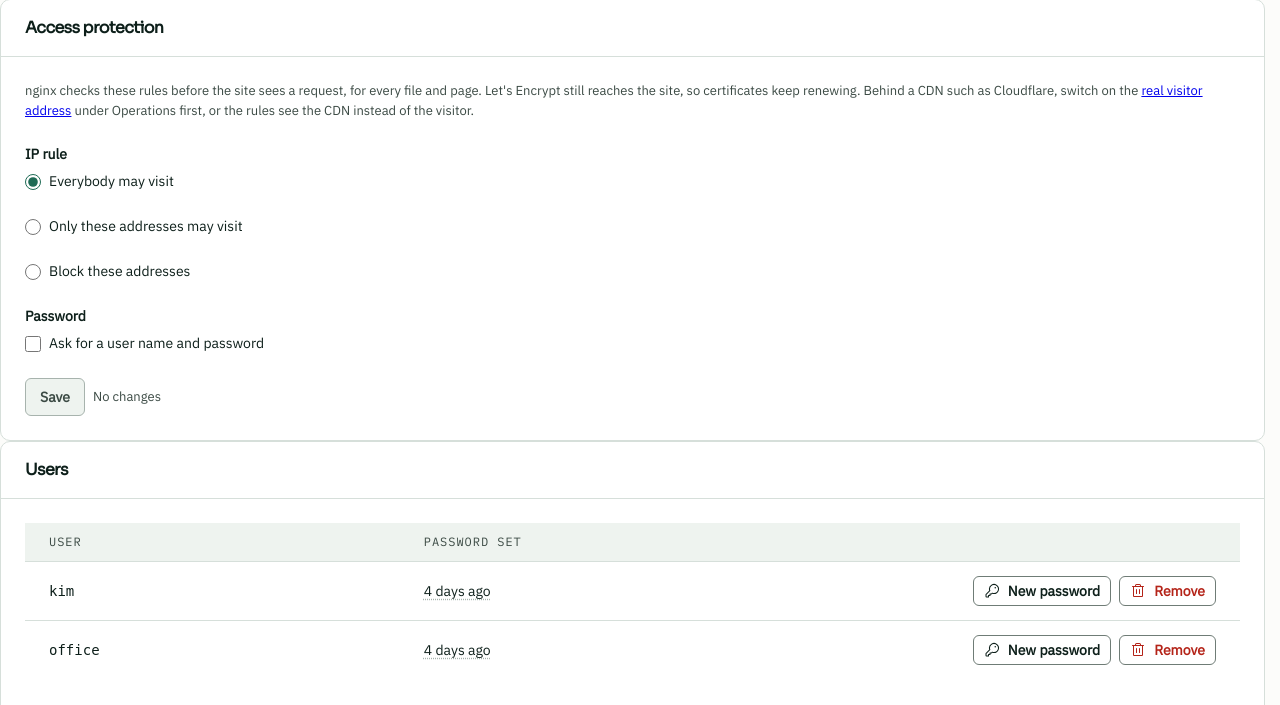
SiteAccess › asks before removing a user and keeps the last one while the password is on
Step 1. Click the button with aria-label "Remove office" → x=1168, y=650, box [1119,635,1216,665]
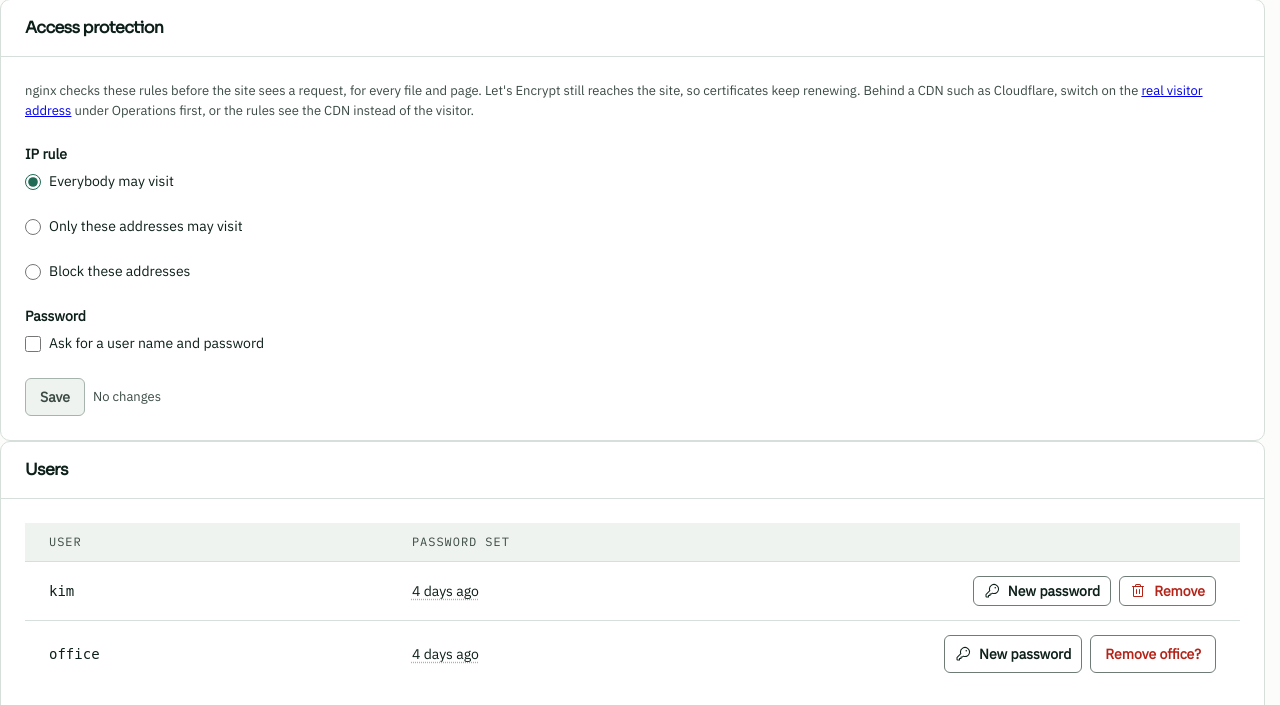
Step 2. Click the button "Remove office?" → x=1153, y=654, box [1090,635,1216,673]
(page scrolled)
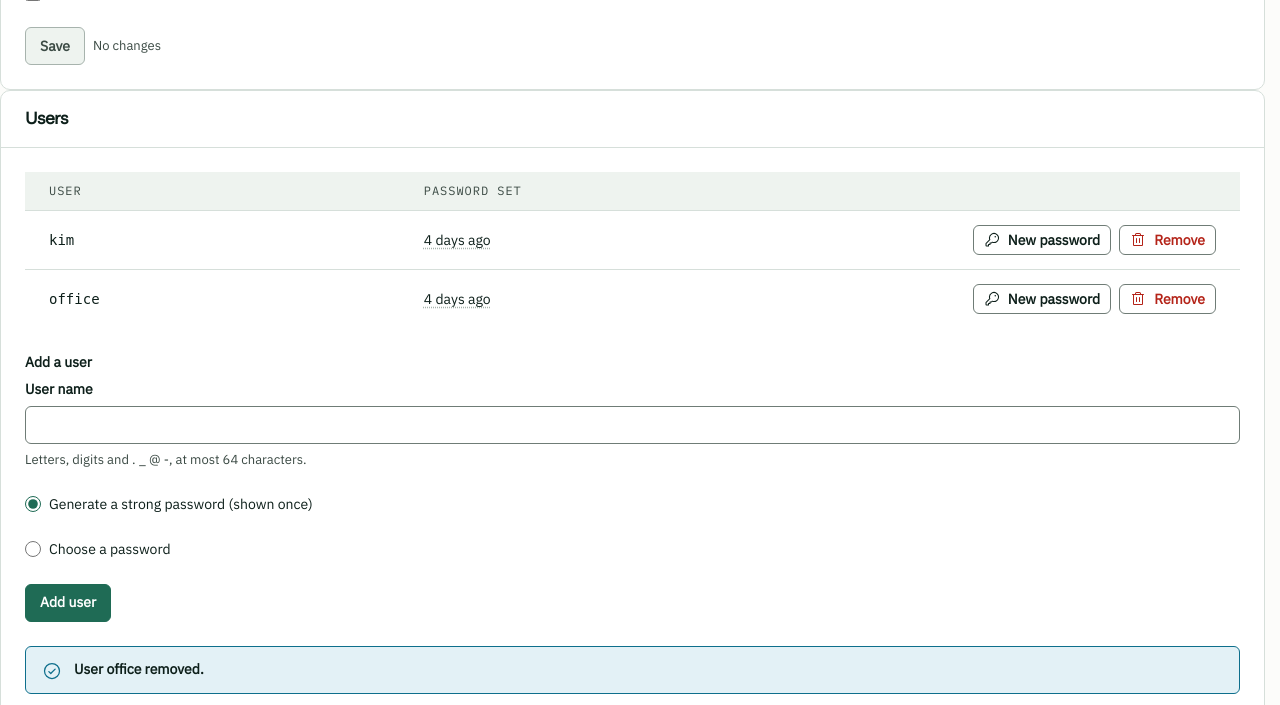
Check: the text "User office removed." is shown, box [74,658,204,680]
